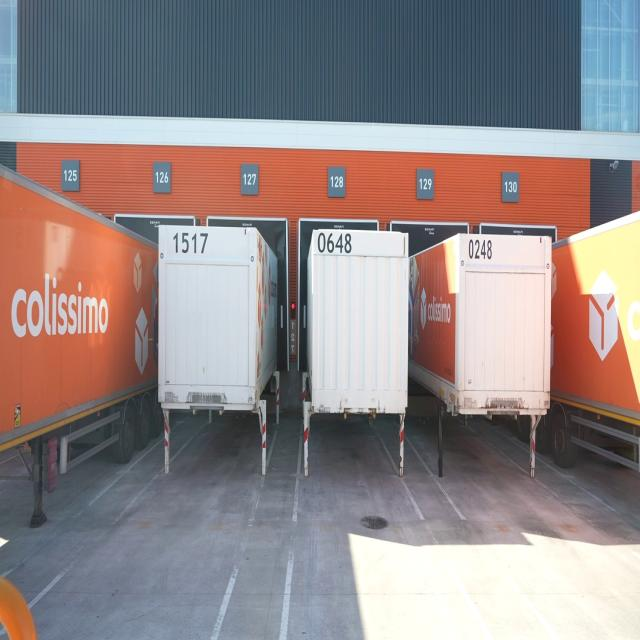Code: (169, 226, 209, 264), (317, 227, 353, 260), (464, 235, 496, 265)
